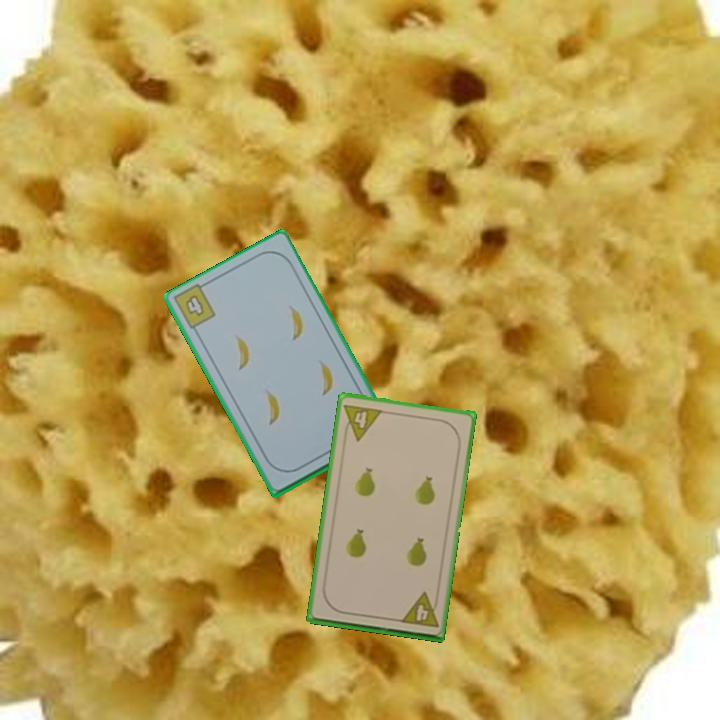4b: (181, 291, 207, 319)
4p: (340, 400, 385, 444), (397, 589, 441, 631)
